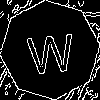W: (25, 25, 76, 75)
